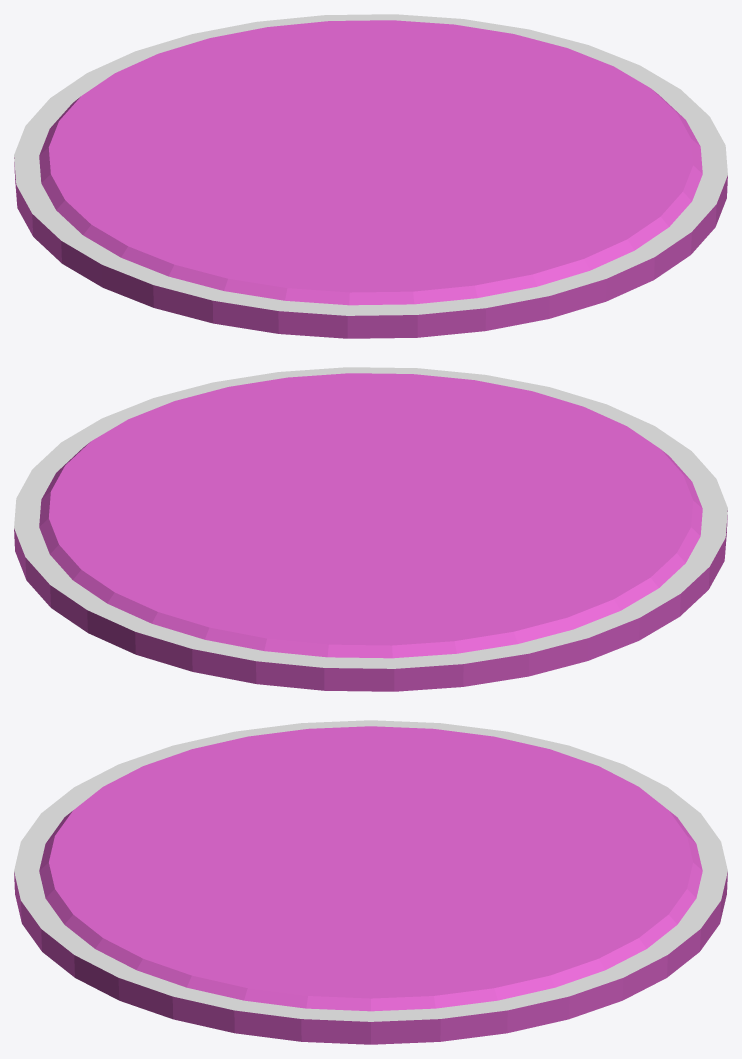
The model's file is casillas_circulo.fbx.
3 renders of one model, top to bottom at view 1: azimuth 30°, elevation 25°; view 2: azimuth 150°, elevation 25°; view 3: azimuth 270°, elevation 25°, orthographic.
Parts seen in each view (by area): view 1: Circle; view 2: Circle; view 3: Circle.
Boxes of the visible parts, left/top/right/bottom form: Circle: left=14, top=14, right=727, bottom=338; Circle: left=14, top=367, right=727, bottom=691; Circle: left=14, top=720, right=727, bottom=1044.
Bounding box in the file's own units: 201 × 9.95 × 201.
